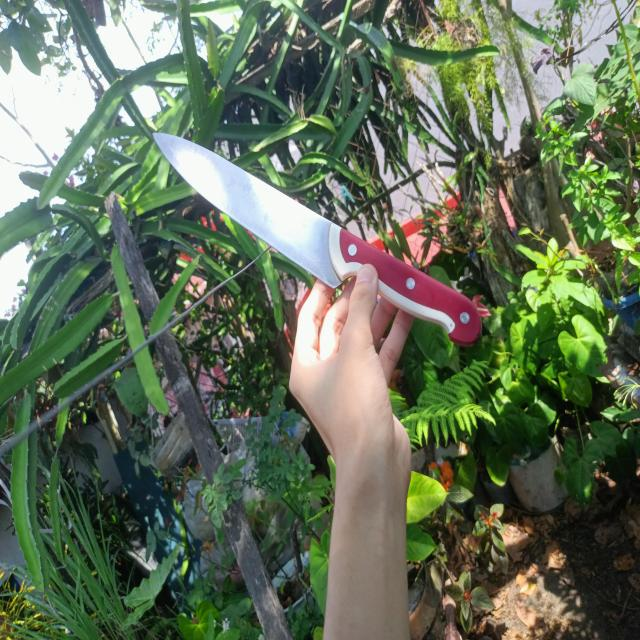knife: (152, 133, 482, 350)
